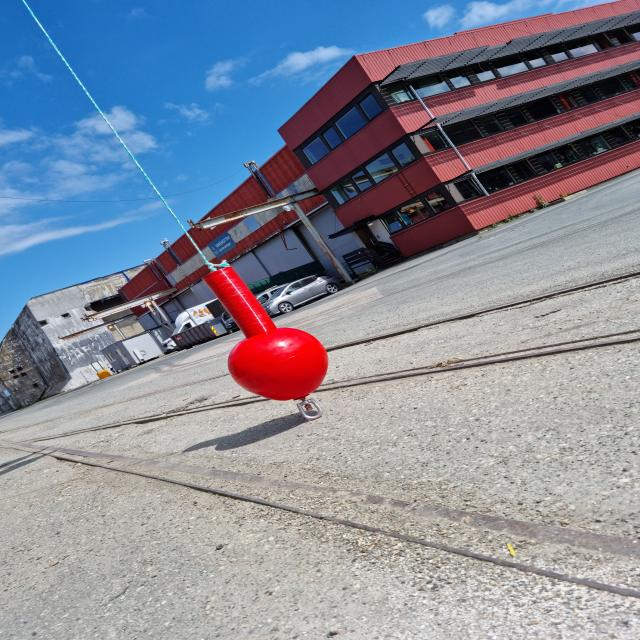red: (202, 268, 330, 401)
